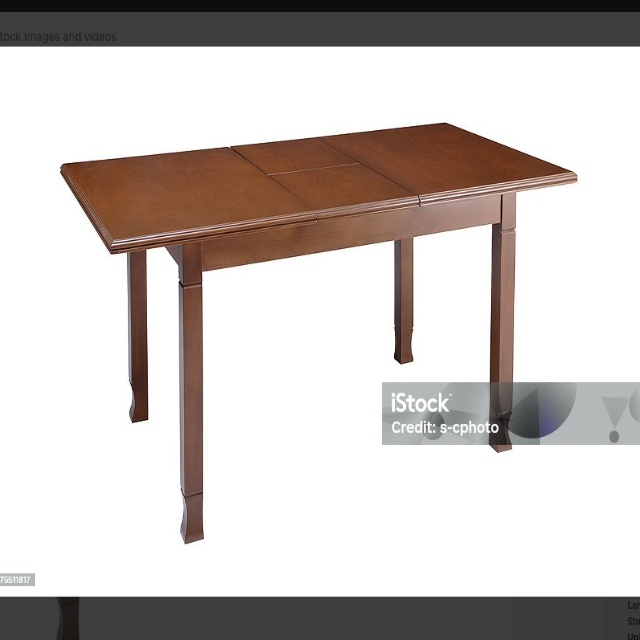obstacle: (66, 121, 576, 541)
